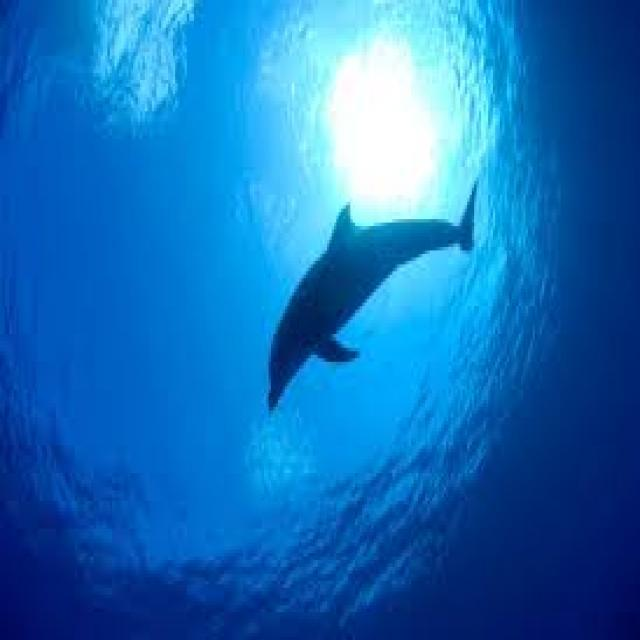dolphin: (231, 160, 488, 490)
